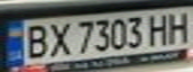0: (109, 16, 130, 51)
3: (124, 14, 148, 48), (90, 16, 112, 52)
7: (72, 18, 96, 55)
B: (18, 21, 51, 60)
H: (163, 8, 193, 44), (145, 11, 172, 46)
X: (45, 19, 72, 57)
